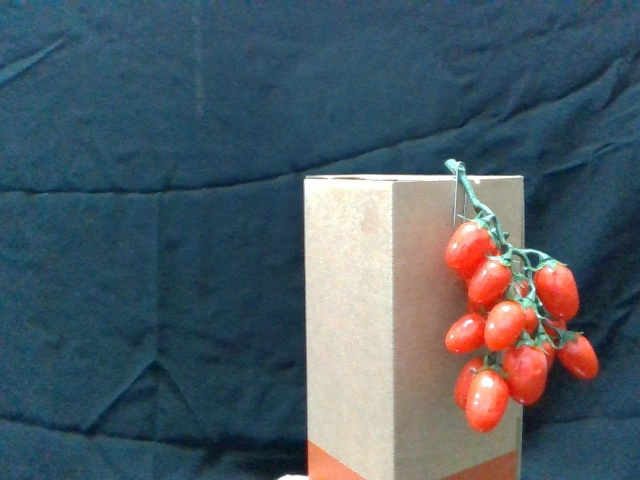tomato: (530, 258, 586, 320), (467, 365, 510, 432), (448, 213, 496, 273), (511, 336, 551, 406), (470, 254, 514, 309), (484, 300, 528, 353), (560, 327, 601, 383), (444, 309, 490, 355)
